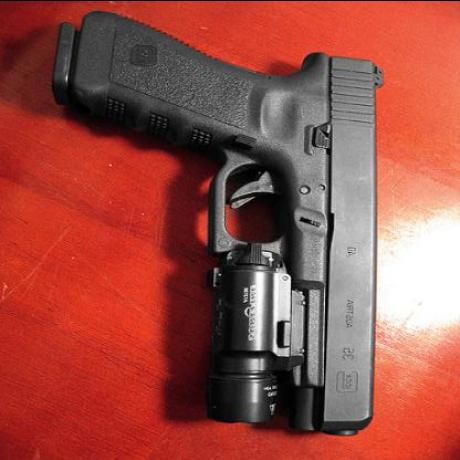weapon: (42, 12, 397, 446)
